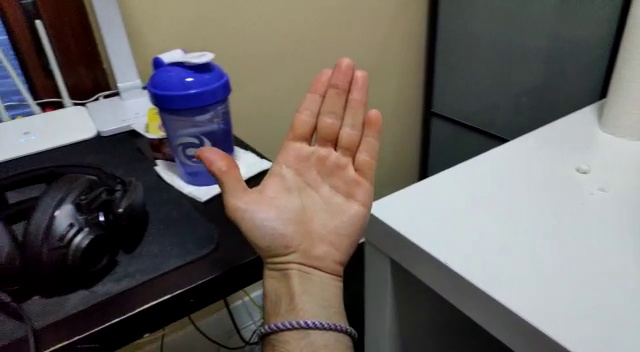Palm: (193, 54, 386, 283)
